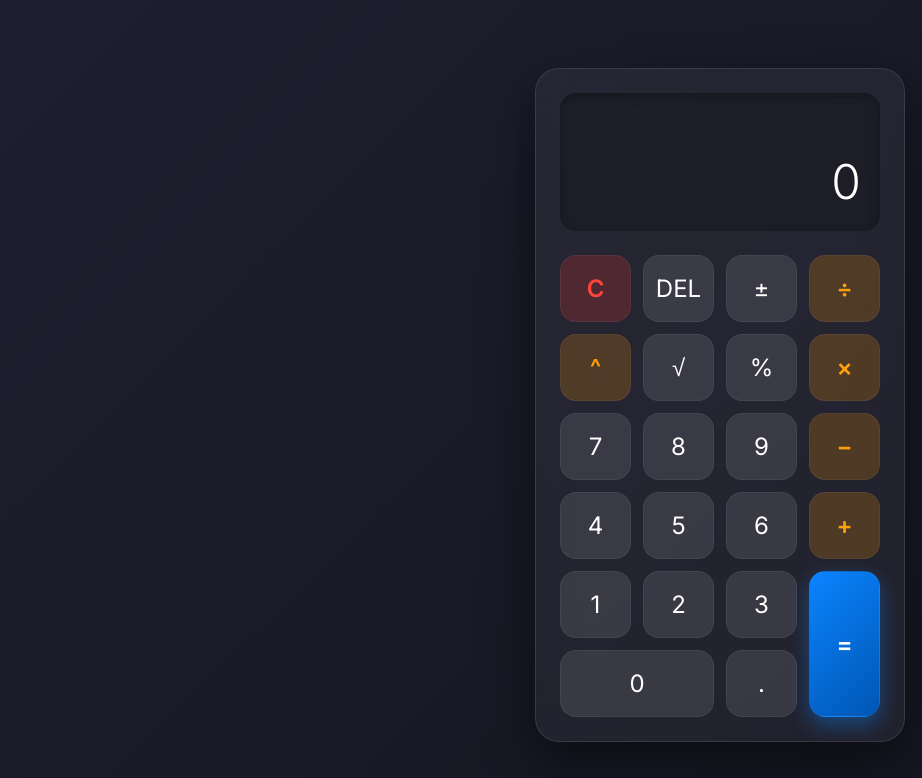
Calculator App › blocks network request and shows error for square root of a negative number
This screenshot has width=922, height=778.
Step 1. Click the button "5" → (678, 526), box [643, 492, 714, 559]
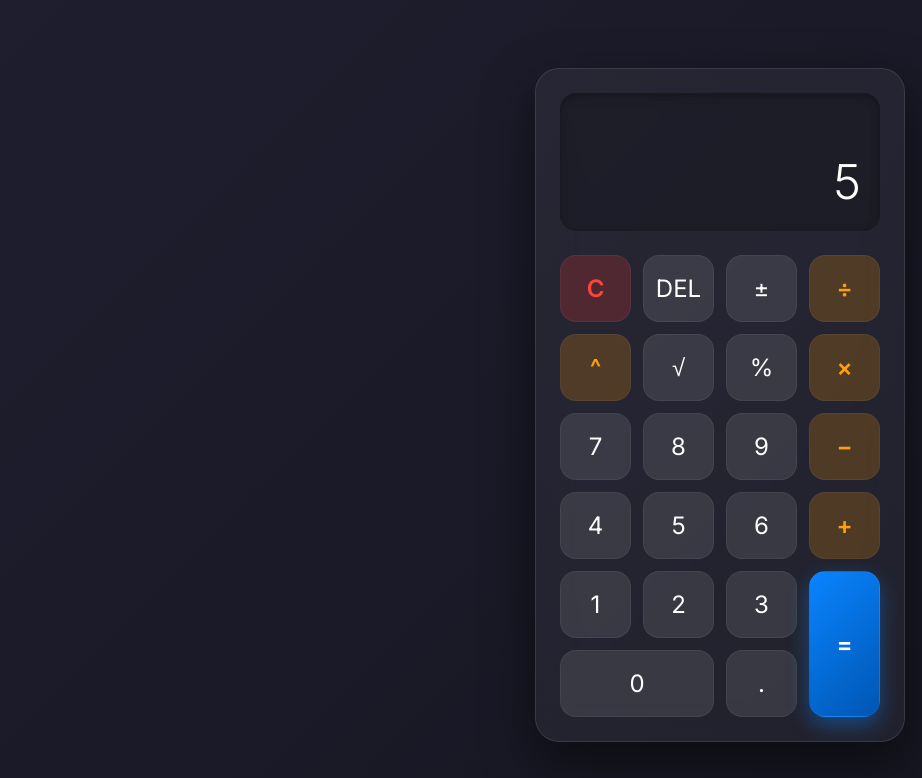
Step 2. Click the button "±" → (762, 289), box [726, 255, 797, 322]
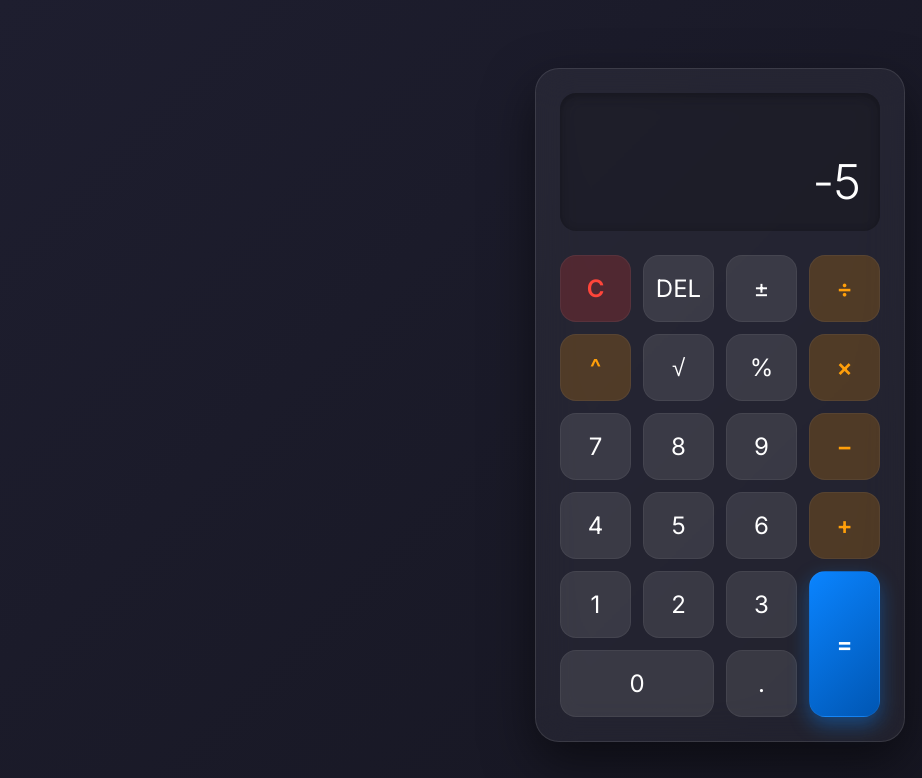
Step 3. Click the button "√" → (678, 368), box [643, 334, 714, 401]
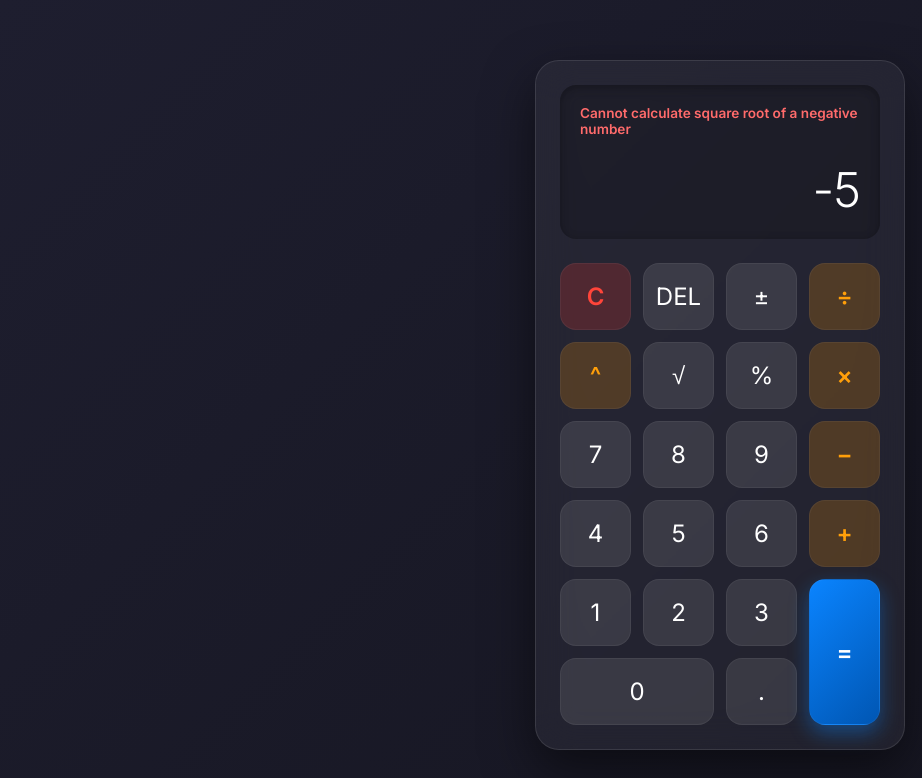
Expected: the text "Cannot calculate square root of a negative number" is shown, [580, 105, 858, 137]
